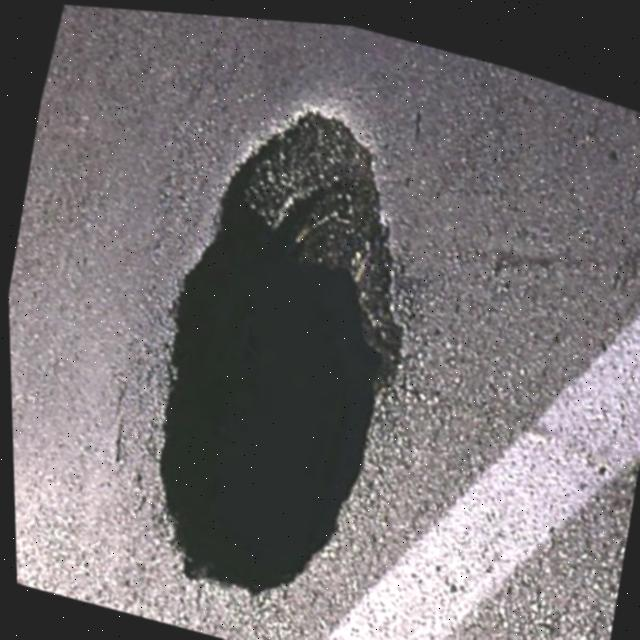Pothole: (39, 20, 512, 640)
